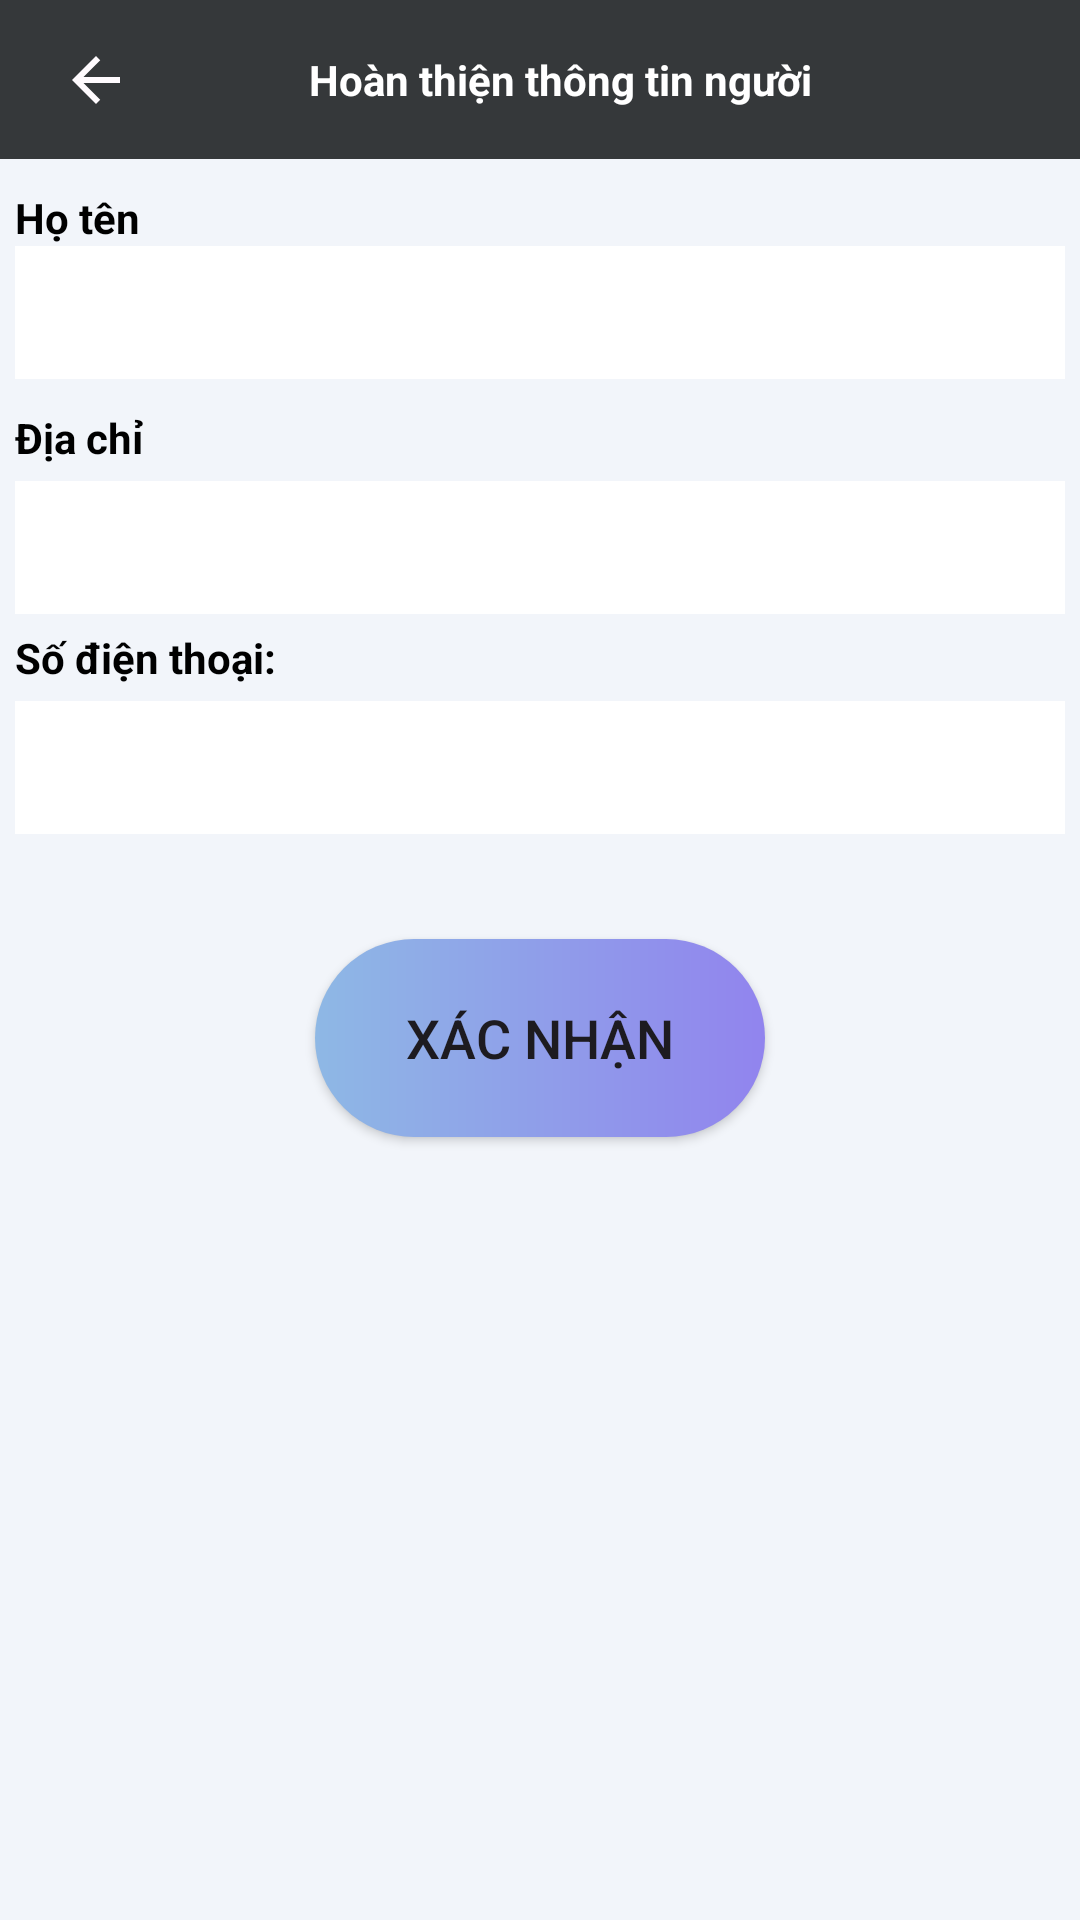

Screen size 1080px×1920px. Icon name, then its center in pixels as (x,y):
iconarrow: (96,80)
